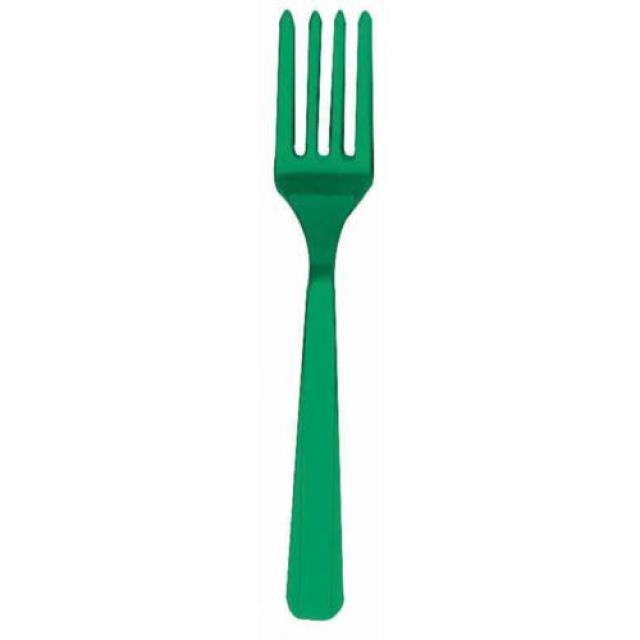spoon: (275, 11, 372, 619)
